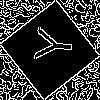Y: (25, 25, 74, 64)
